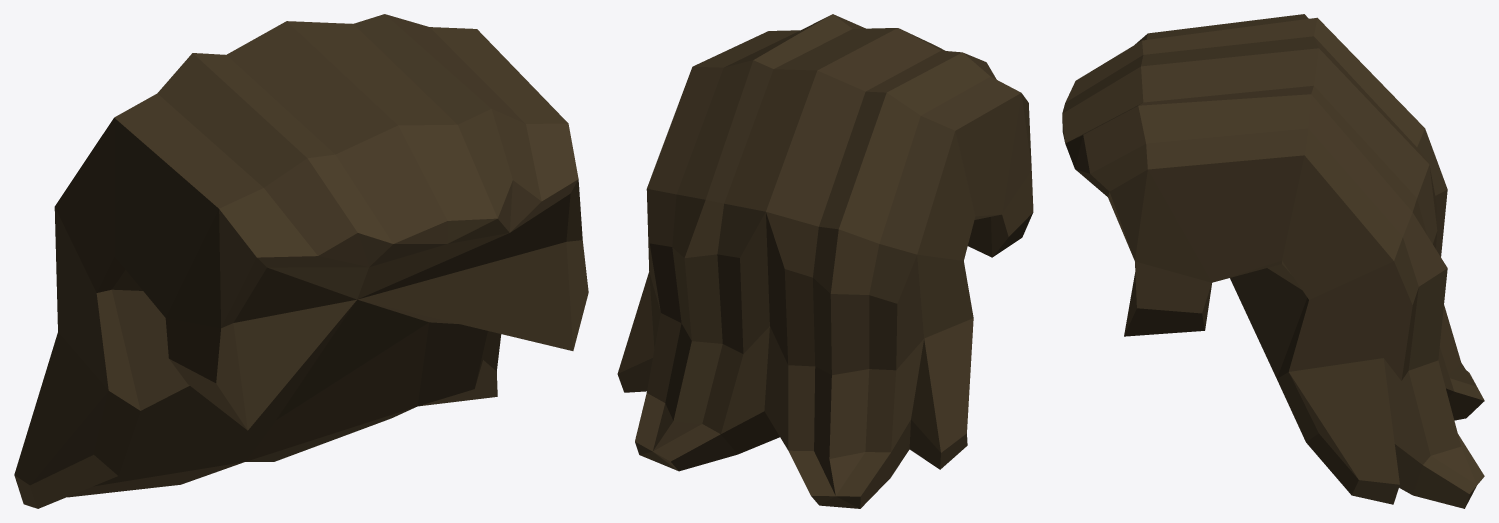
The model's file is Chr_Hair_02_Static.fbx.
The picture shows the model from 3 angles, left to right: view 1: azimuth 30°, elevation 25°; view 2: azimuth 150°, elevation 25°; view 3: azimuth 270°, elevation 25°; orthographic projection. The views are drawn at different scales.
Visible parts, largest first — view 1: Chr_Hair_02_Static; view 2: Chr_Hair_02_Static; view 3: Chr_Hair_02_Static.
Boxes of the visible parts, x1,y1,x2,y2 form: Chr_Hair_02_Static: (14, 14, 588, 508); Chr_Hair_02_Static: (617, 14, 1033, 508); Chr_Hair_02_Static: (1062, 14, 1484, 508).
Size of the model in its own units: 0.2942 by 0.3072 by 0.289.
